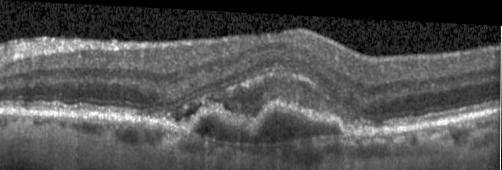retinal_drusen: (197, 108, 345, 142)
